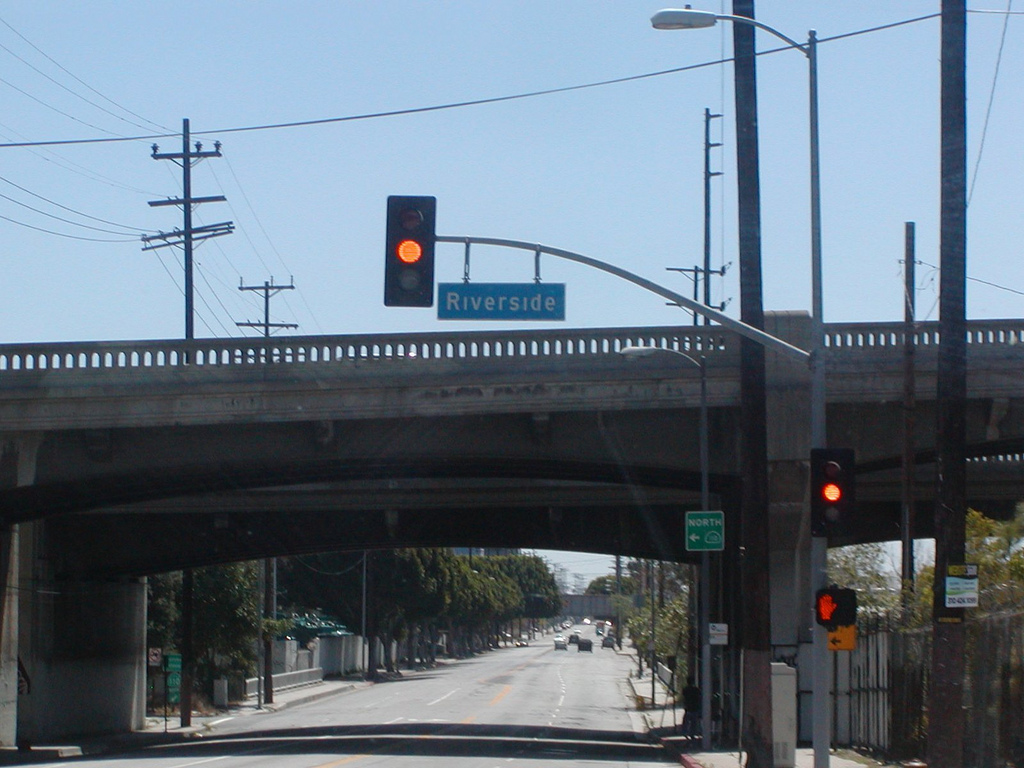traffic_light: (382, 194, 439, 309), (808, 447, 855, 538)
